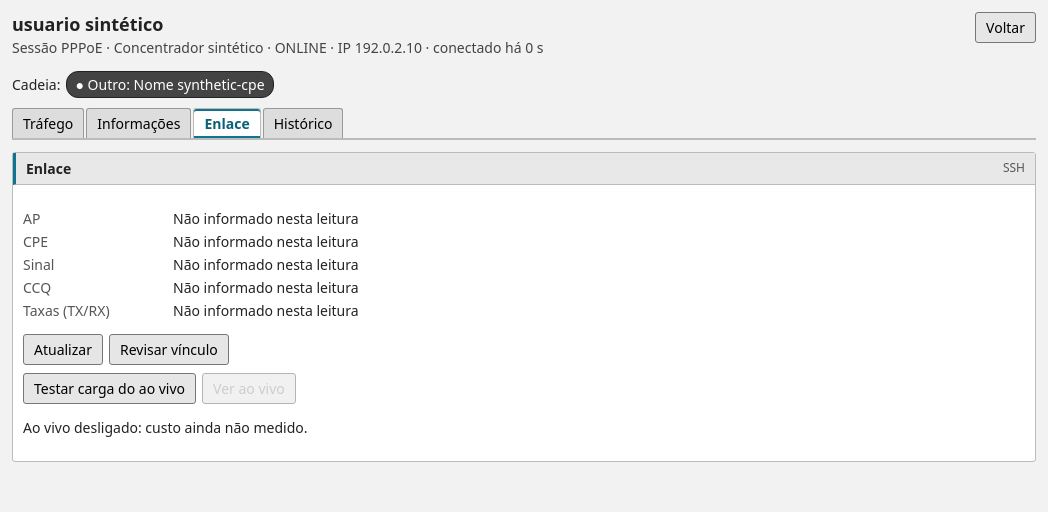
it: shows a radio failure on the session and does not retry it
Click the button "Atualizar": (63, 350) 23,334 -> 103,365
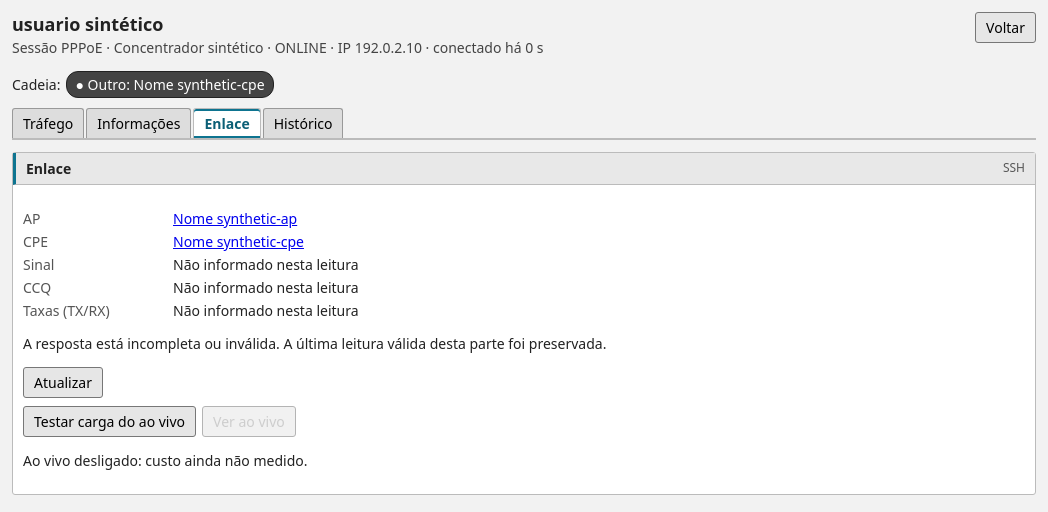
Now the message is shown, box 23,334 -> 606,353
